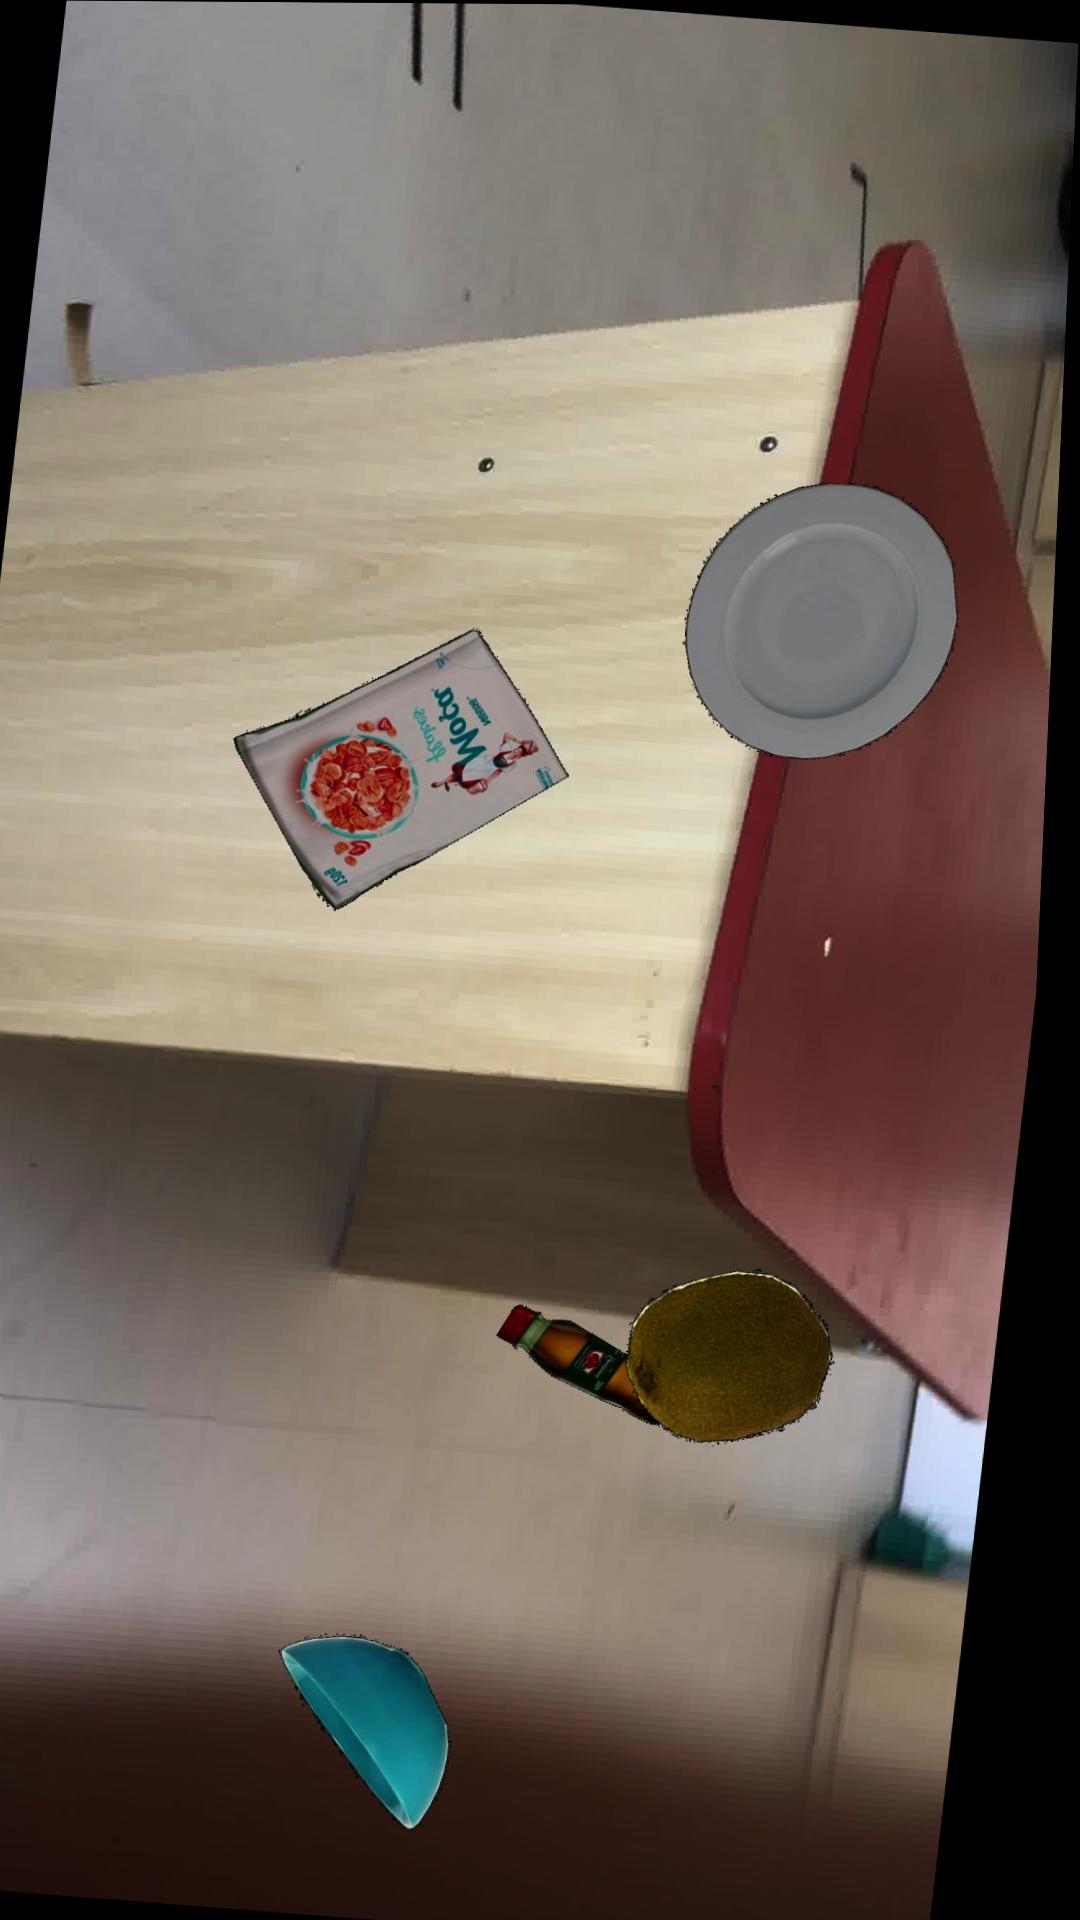bowl: (294, 1636, 465, 1830)
corn flakes: (239, 631, 574, 912)
guarana: (507, 1305, 672, 1425)
kiwi: (636, 1271, 843, 1443)
plate: (689, 483, 962, 760)
